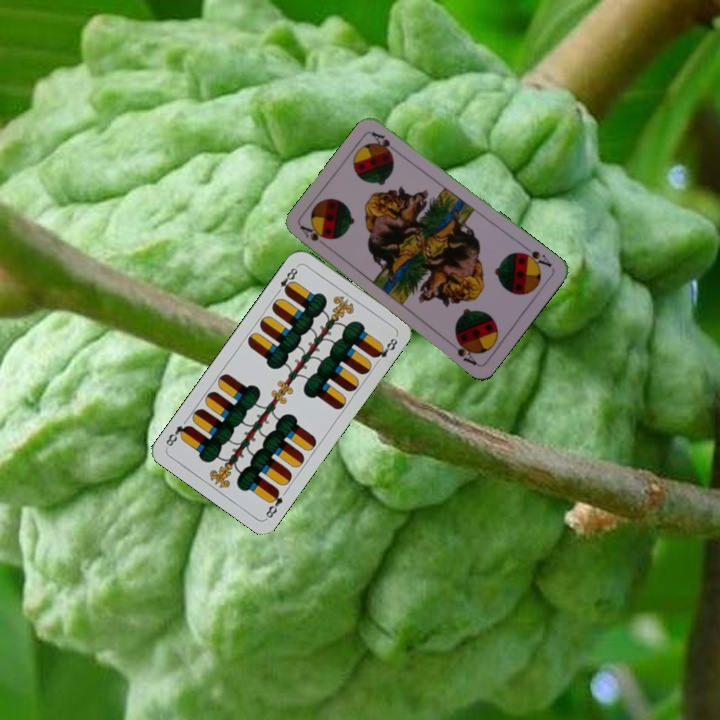E8: (272, 262, 302, 297), (261, 486, 285, 521)
SA: (516, 242, 555, 270), (297, 221, 329, 244)
